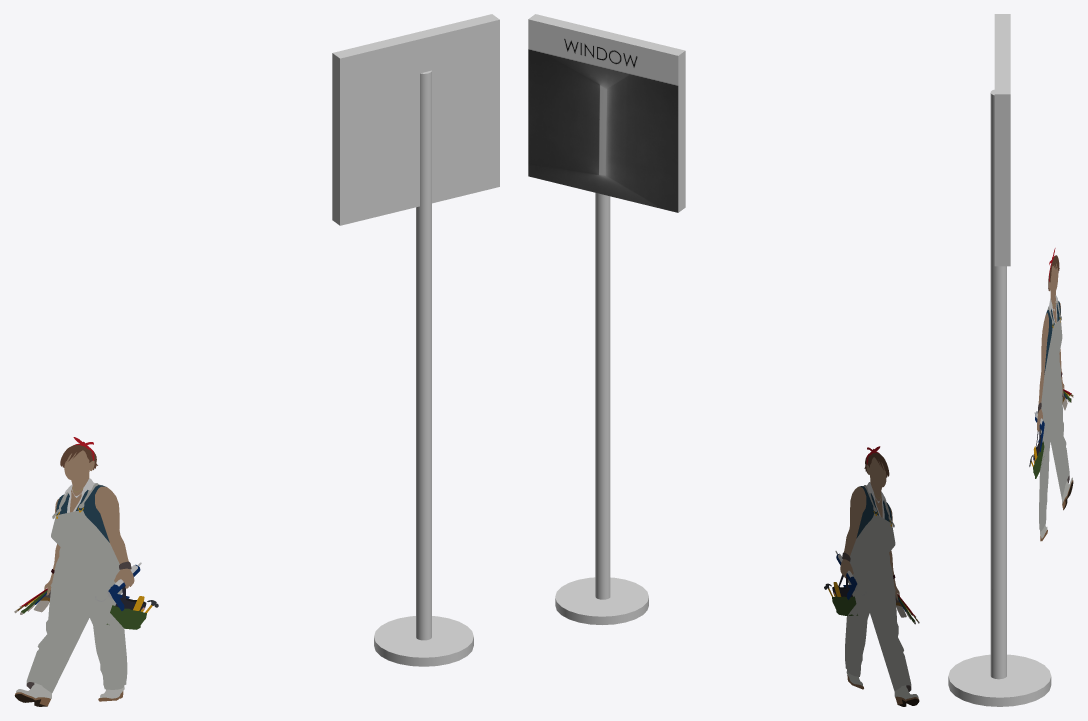
File: window.fbx
3 renders of one model, left to right at view 1: azimuth 30°, elevation 25°; view 2: azimuth 150°, elevation 25°; view 3: azimuth 270°, elevation 25°, orthographic. The views are drawn at different scales.
Parts seen in each view (by area): view 1: Model, Lisanne1; view 2: Model, Lisanne1; view 3: Model, Lisanne1.
Part boxes in pixels (x1,y1,x2,y2): Model: (332,14,499,666); Lisanne1: (14,437,158,706); Model: (528,14,685,624); Lisanne1: (824,446,919,706); Model: (948,14,1051,706); Lisanne1: (1029,248,1073,541).
Bounding box in the file's own units: 117 × 152 × 27.52.
